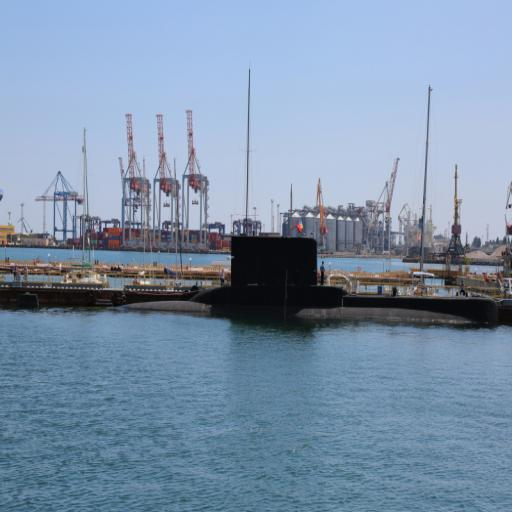submarine: (120, 234, 502, 330)
